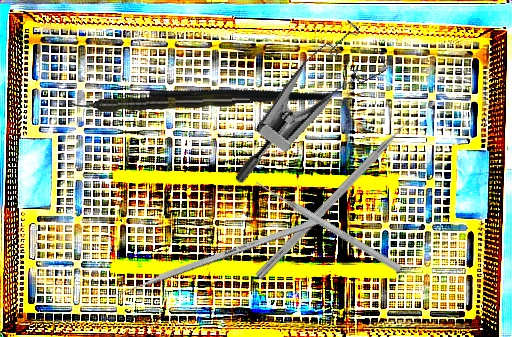Chopper: (111, 20, 333, 180), (255, 110, 428, 289)
Handpiece: (70, 91, 251, 114)
Pusher: (101, 217, 319, 303), (253, 177, 403, 274)
Speculum: (232, 4, 399, 219)
